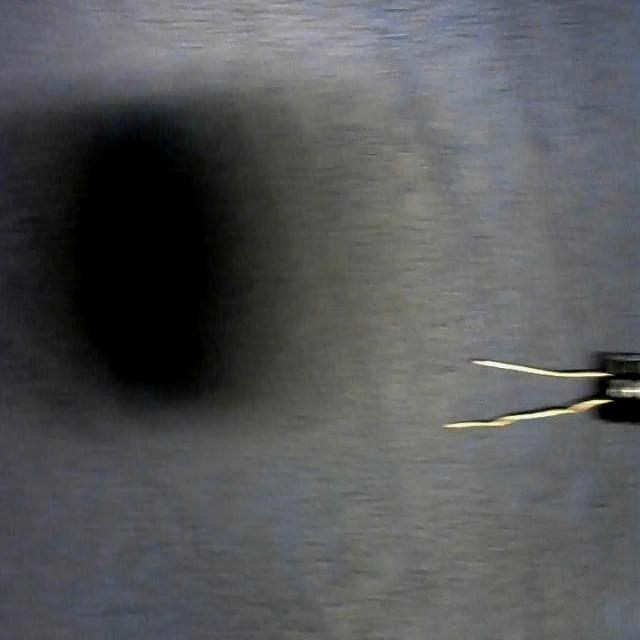capacitor: (440, 354, 640, 435)
